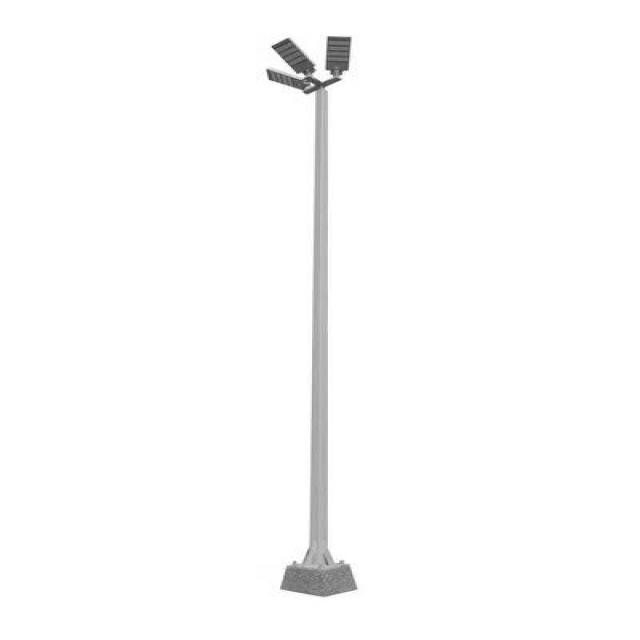Pole: (267, 36, 357, 598)
